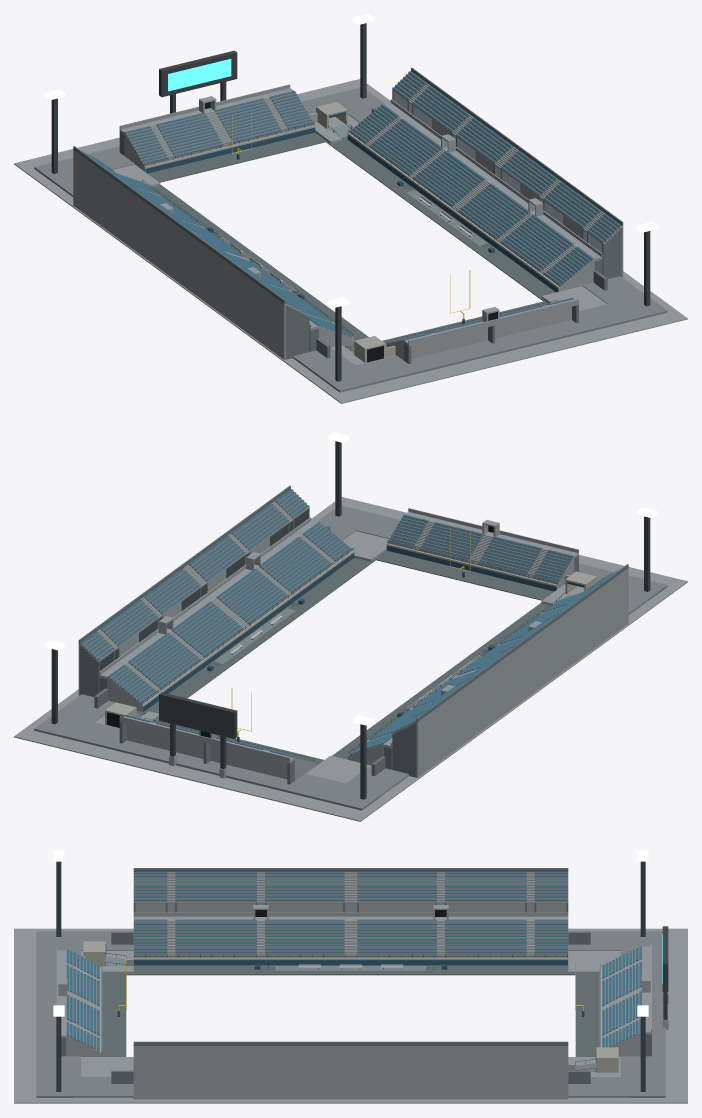
The model's file is stadium.glb.
The picture shows the model from 3 angles, top to bottom: view 1: azimuth 30°, elevation 25°; view 2: azimuth 150°, elevation 25°; view 3: azimuth 270°, elevation 25°; orthographic projection. The views are drawn at different scales.
Visible parts, largest first — view 1: Sideline_A_West_Rear_Facade, Perimeter_Paving, South Concourse, Sideline_Runoff, Endzone_Runoff, North Concourse, Sideline_B_East_Upper_Supports, Sideline_B_East_Section_05_Seating, Sideline_B_East_Section_02_Seating, Sideline_B_East_Section_03_Seating, Sideline_B_East_Section_04_Seating, Endzone_A_North_Section_03_Seating (+45 smaller); view 2: Sideline_A_West_Rear_Facade, Perimeter_Paving, North Concourse, Sideline_Runoff, Endzone_Runoff, Scoreboard Panel, South Concourse, Sideline_B_East_Upper_Supports, Sideline_B_East_Section_02_Seating, Sideline_B_East_Section_05_Seating, Sideline_B_East_Section_04_Seating, Sideline_B_East_Section_03_Seating (+45 smaller); view 3: Sideline_B_East_Rear_Facade, Perimeter_Paving, South Concourse, Sideline_Runoff, Endzone_Runoff, Sideline_A_West_Rear_Facade, North Concourse, Home_West_Wall_Padding, Sideline_A_West_Section_02_Seating, Sideline_A_West_Section_05_Seating, Sideline_A_West_Section_03_Seating, Sideline_A_West_Section_04_Seating (+55 smaller).
Part boxes in pixels (<box>): Sideline_A_West_Rear_Facade: <box>73,150,285,359</box>; Perimeter_Paving: <box>14,79,687,403</box>; South Concourse: <box>319,296,667,392</box>; Sideline_Runoff: <box>151,137,555,345</box>; Endzone_Runoff: <box>147,132,548,347</box>; North Concourse: <box>34,87,383,183</box>; Sideline_B_East_Upper_Supports: <box>392,90,621,278</box>; Sideline_B_East_Section_05_Seating: <box>501,214,573,270</box>; Sideline_B_East_Section_02_Seating: <box>370,119,442,174</box>; Sideline_B_East_Section_03_Seating: <box>413,151,485,205</box>; Sideline_B_East_Section_04_Seating: <box>458,183,530,238</box>; Endzone_A_North_Section_03_Seating: <box>215,98,281,142</box>; Sideline_A_West_Rear_Facade: <box>416,568,628,777</box>; Perimeter_Paving: <box>14,497,687,821</box>; North Concourse: <box>34,713,383,810</box>; Sideline_Runoff: <box>145,558,550,759</box>; Endzone_Runoff: <box>153,550,554,766</box>; Scoreboard Panel: <box>159,692,237,738</box>; South Concourse: <box>319,505,667,600</box>; Sideline_B_East_Upper_Supports: <box>80,508,309,696</box>; Sideline_B_East_Section_02_Seating: <box>128,632,200,688</box>; Sideline_B_East_Section_05_Seating: <box>259,537,331,592</box>; Sideline_B_East_Section_04_Seating: <box>216,569,288,623</box>; Sideline_B_East_Section_03_Seating: <box>171,601,243,656</box>; Sideline_B_East_Rear_Facade: <box>133,1046,568,1099</box>; Perimeter_Paving: <box>14,928,687,1103</box>; South Concourse: <box>36,931,81,1097</box>; Sideline_Runoff: <box>126,964,575,1068</box>; Endzone_Runoff: <box>102,974,599,1065</box>; Sideline_A_West_Rear_Facade: <box>135,903,566,912</box>; North Concourse: <box>620,931,665,1097</box>; Home_West_Wall_Padding: <box>134,960,567,965</box>; Sideline_A_West_Section_02_Seating: <box>175,919,256,955</box>; Sideline_A_West_Section_05_Seating: <box>445,919,526,955</box>; Sideline_A_West_Section_03_Seating: <box>265,919,344,955</box>; Sideline_A_West_Section_04_Seating: <box>357,919,436,955</box>.
Size of the model in its own units: 110 by 25.24 by 180.
